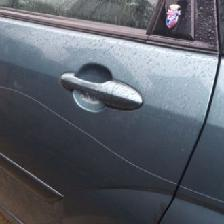scrach: (113, 147, 124, 162)
